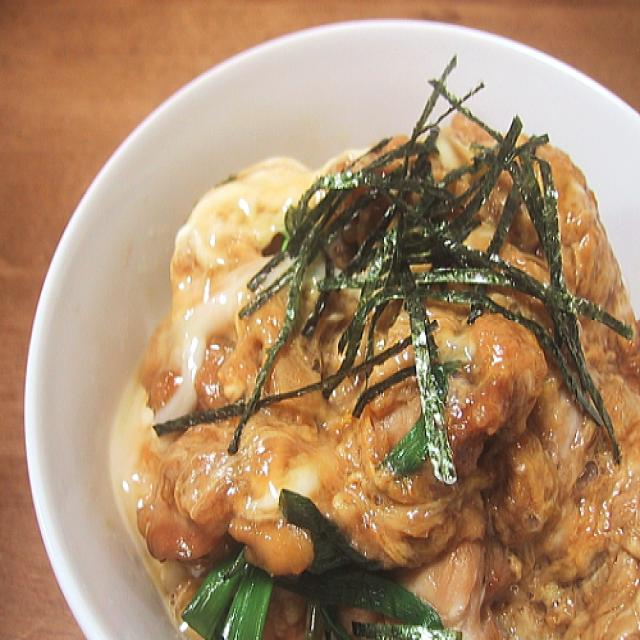米饭主食: (13, 10, 640, 640)
